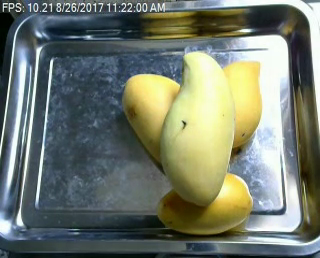Mango: (162, 52, 235, 205), (158, 173, 253, 233), (122, 75, 182, 166), (214, 61, 262, 147)
